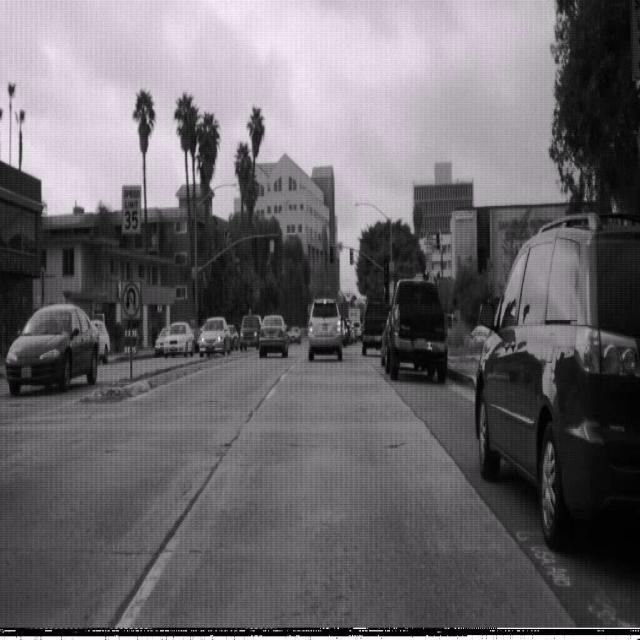speedLimit35: (120, 183, 142, 234)
